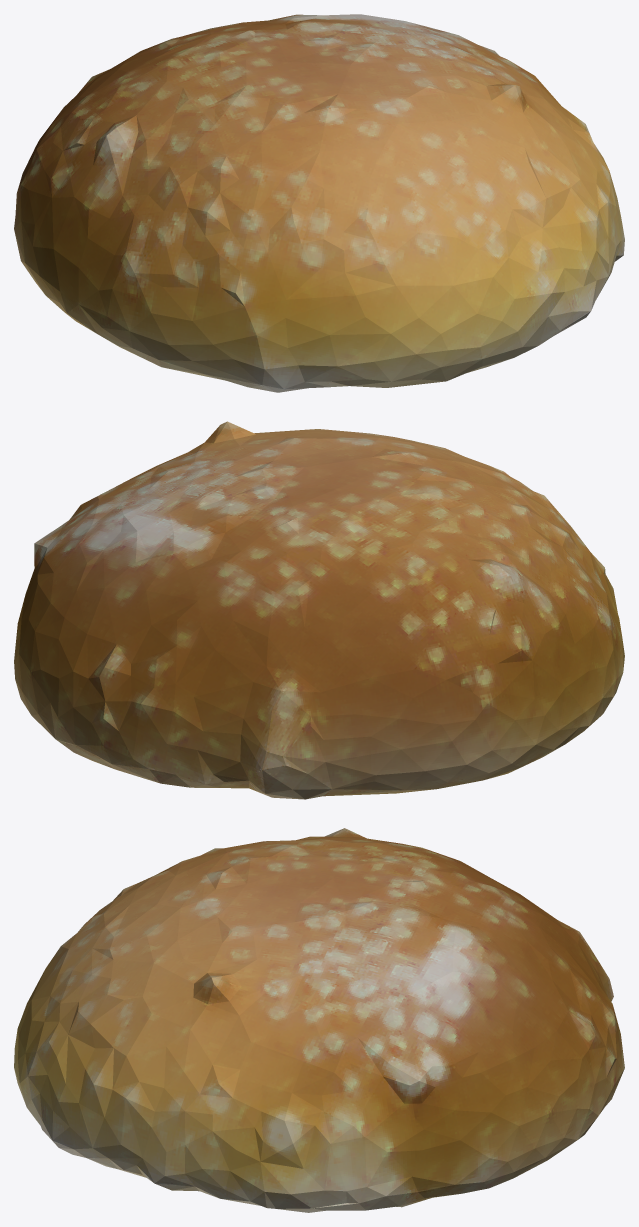
File: zjpmyd.glb
The picture shows the model from 3 angles, top to bottom: view 1: azimuth 30°, elevation 25°; view 2: azimuth 150°, elevation 25°; view 3: azimuth 270°, elevation 25°; orthographic projection. The views are drawn at different scales.
Visible parts, largest first — view 1: world; view 2: world; view 3: world.
Part boxes in pixels (x1,y1,x2,y2): world: (14,14,624,392); world: (14,421,624,799); world: (14,828,624,1212).
Size of the model in its own units: 0.2934 by 0.1145 by 0.2987.
Materials: 1 (1 with a texture image).
